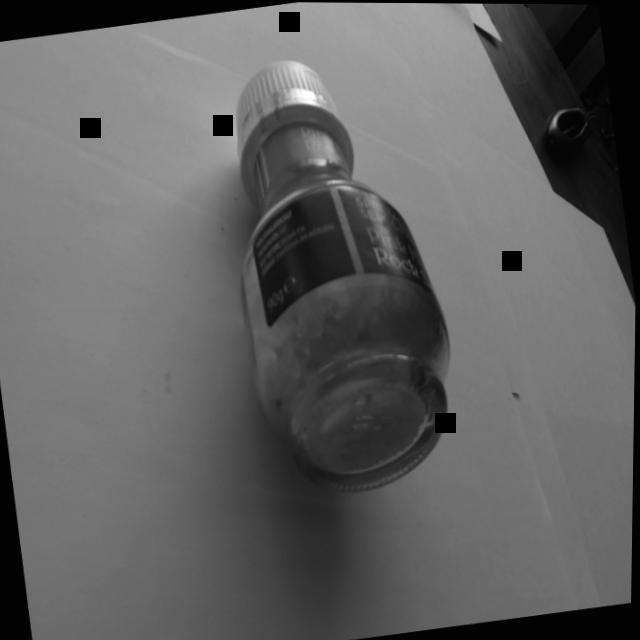Salt: (188, 20, 499, 523)
